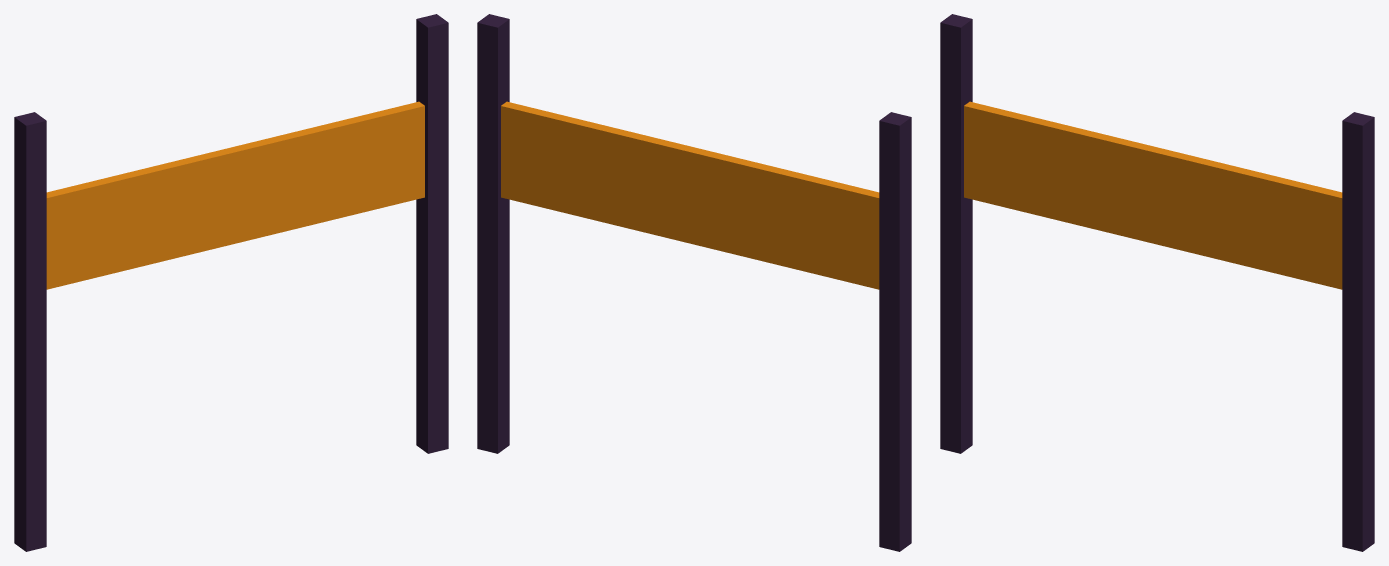
File: FinishFlag.fbx
3 renders of one model, left to right at view 1: azimuth 30°, elevation 25°; view 2: azimuth 150°, elevation 25°; view 3: azimuth 330°, elevation 25°, orthographic.
Parts seen in each view (by area): view 1: Cube.006; view 2: Cube.006; view 3: Cube.006.
Boxes of the visible parts, box(x1,y1,x2,y2) form: Cube.006: box(14, 14, 448, 551); Cube.006: box(477, 14, 911, 551); Cube.006: box(940, 14, 1374, 551).
Size of the model in its own units: 3076 by 2965 by 150.
